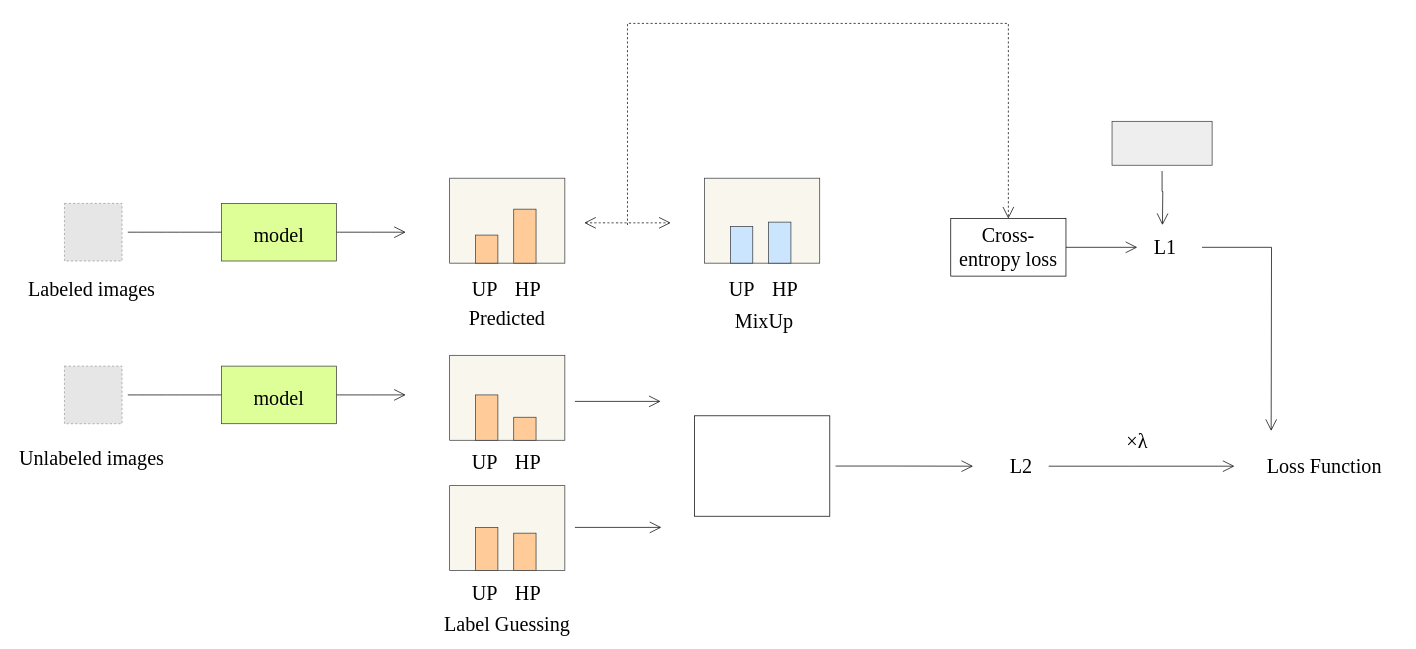
The diagram is 1416 pixels wide and 649 high, and some of its shapes have lost their labels. Grey dashed boxes stand in for pictures. Each missing label, with the box of its shape:
MSE loss: (694, 415, 830, 516)
True Label: (1111, 121, 1212, 165)
